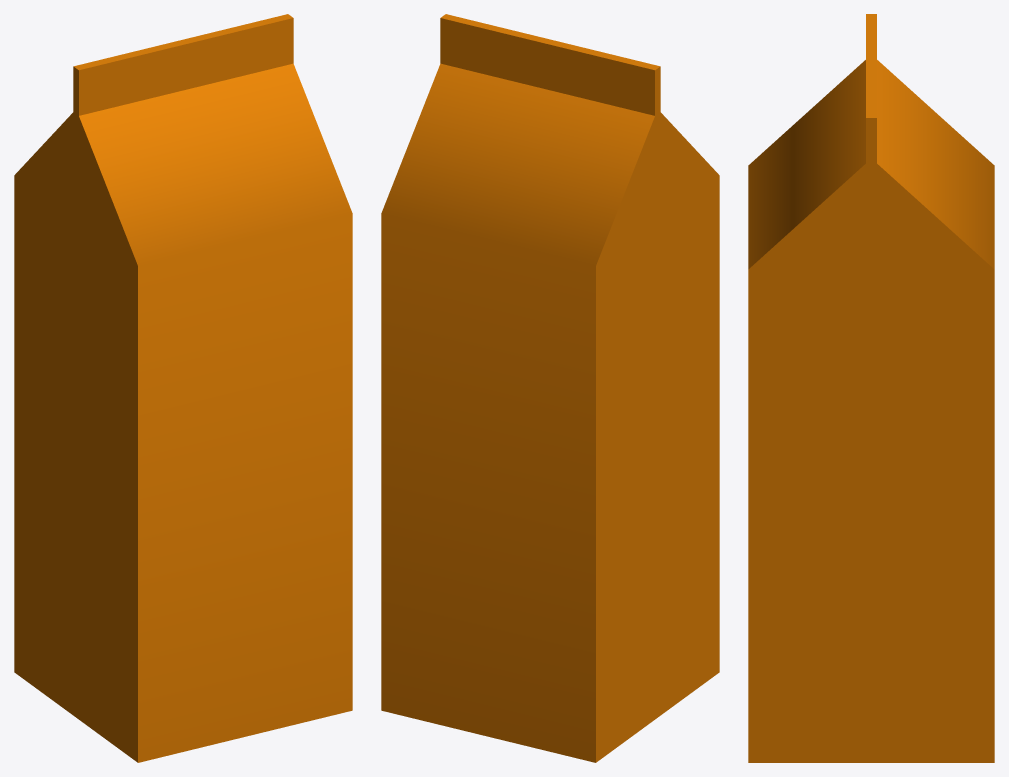
The model's file is Packaging_11.fbx.
3 renders of one model, left to right at view 1: azimuth 30°, elevation 25°; view 2: azimuth 150°, elevation 25°; view 3: azimuth 270°, elevation 25°, orthographic.
Visible parts, largest first — view 1: Packaging_11; view 2: Packaging_11; view 3: Packaging_11.
Part boxes in pixels (bbox=[...]): Packaging_11: bbox=[14, 14, 352, 762]; Packaging_11: bbox=[381, 14, 719, 762]; Packaging_11: bbox=[748, 14, 994, 762].
Size of the model in its own units: 9.49 by 27.43 by 9.49.
